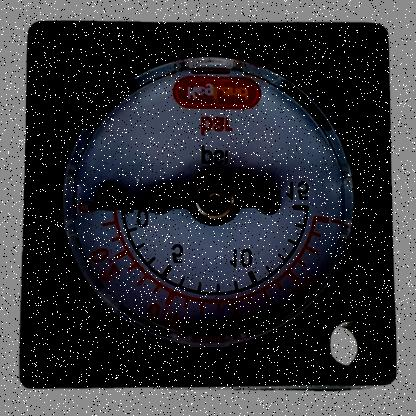needle: (87, 190, 188, 209)
